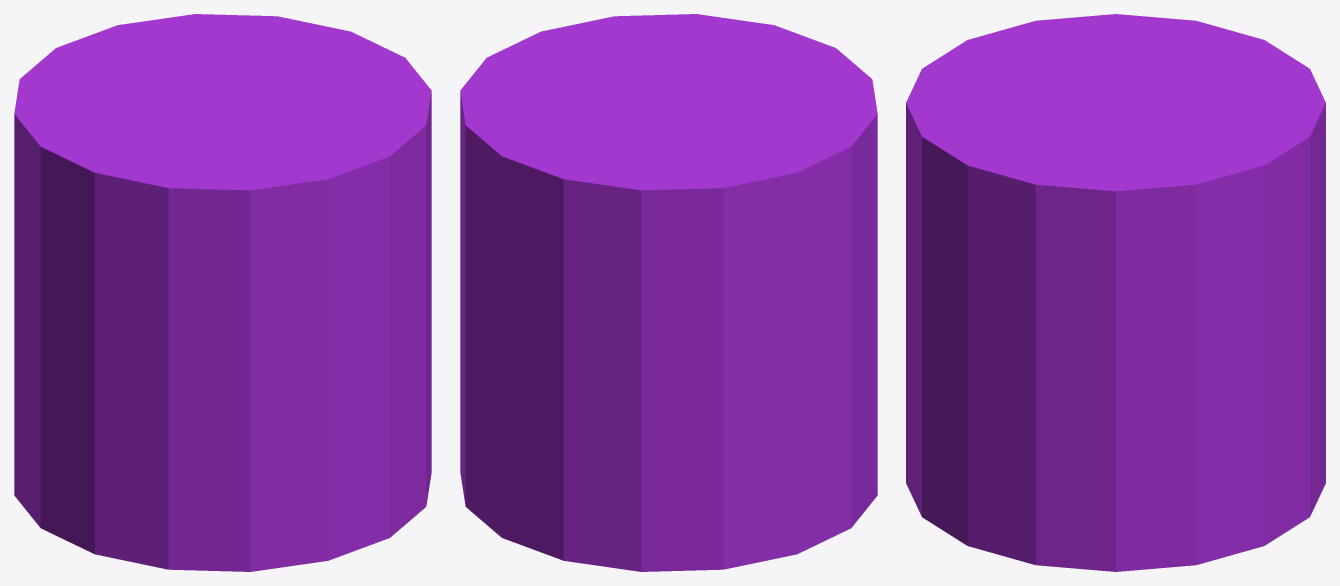
The model's file is baseCylinder.glb.
3 views of the same model, side by side, from view 1: azimuth 30°, elevation 25°; view 2: azimuth 150°, elevation 25°; view 3: azimuth 270°, elevation 25° (orthographic).
Visible parts, largest first — view 1: Cylinder; view 2: Cylinder; view 3: Cylinder.
Part boxes in pixels (x1,y1,x2,y2): Cylinder: (14, 14, 431, 571); Cylinder: (460, 14, 877, 571); Cylinder: (906, 14, 1325, 571).
Size of the model in its own units: 2 by 2 by 2.
